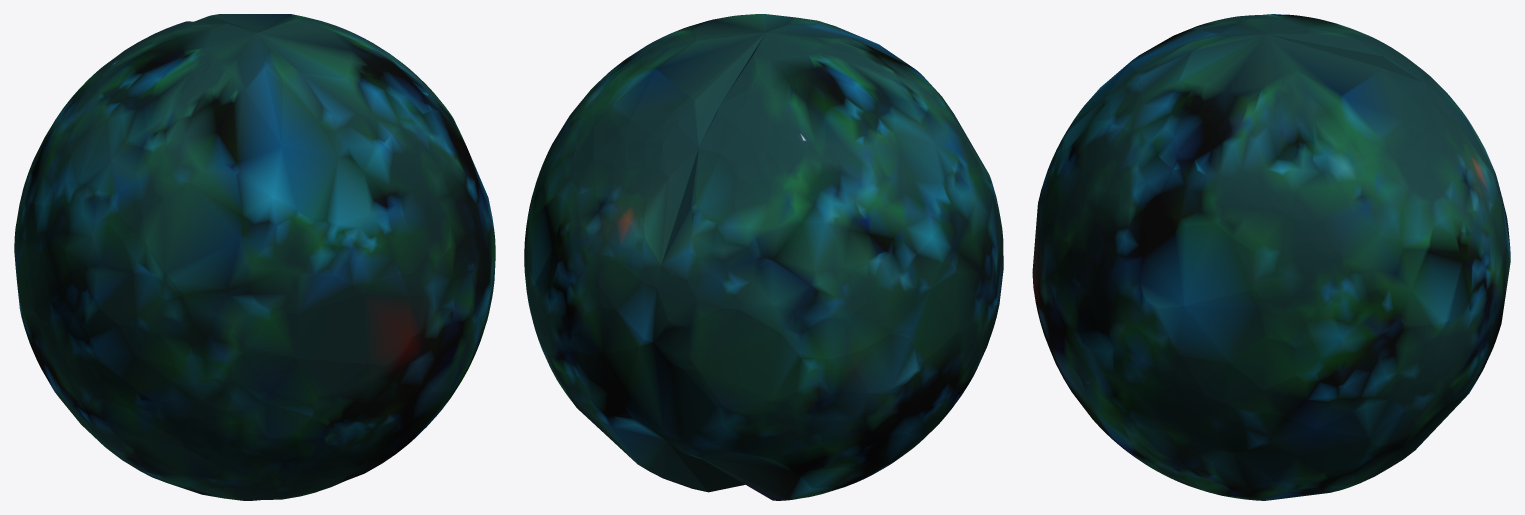
The model's file is example_28_wrap_mode.fbx.
3 views of the same model, side by side, from view 1: azimuth 30°, elevation 25°; view 2: azimuth 150°, elevation 25°; view 3: azimuth 270°, elevation 25° (orthographic).
Parts seen in each view (by area): view 1: blue_green_nebula_AB-1; view 2: blue_green_nebula_AB-1; view 3: blue_green_nebula_AB-1.
Part boxes in pixels (left/top/right/bottom): blue_green_nebula_AB-1: left=14, top=14, right=495, bottom=500; blue_green_nebula_AB-1: left=524, top=14, right=1003, bottom=500; blue_green_nebula_AB-1: left=1032, top=14, right=1510, bottom=500.
Size of the model in its own units: 20133 by 20772 by 20148.
